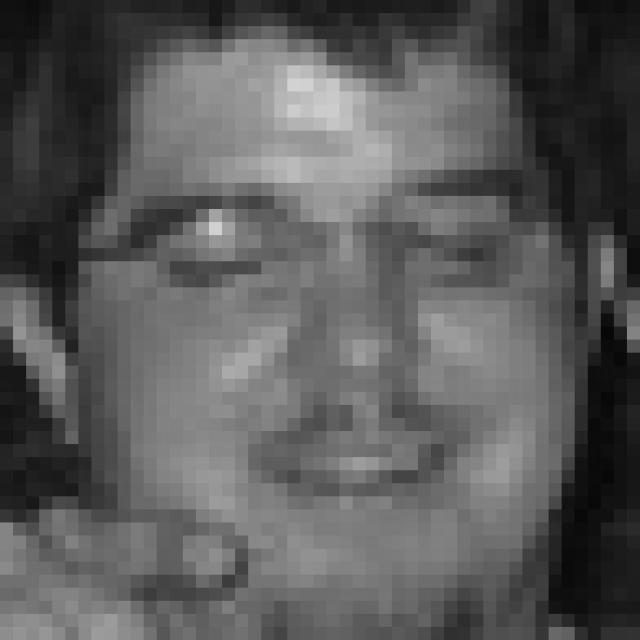real: (125, 12, 579, 622), (130, 188, 526, 319)
